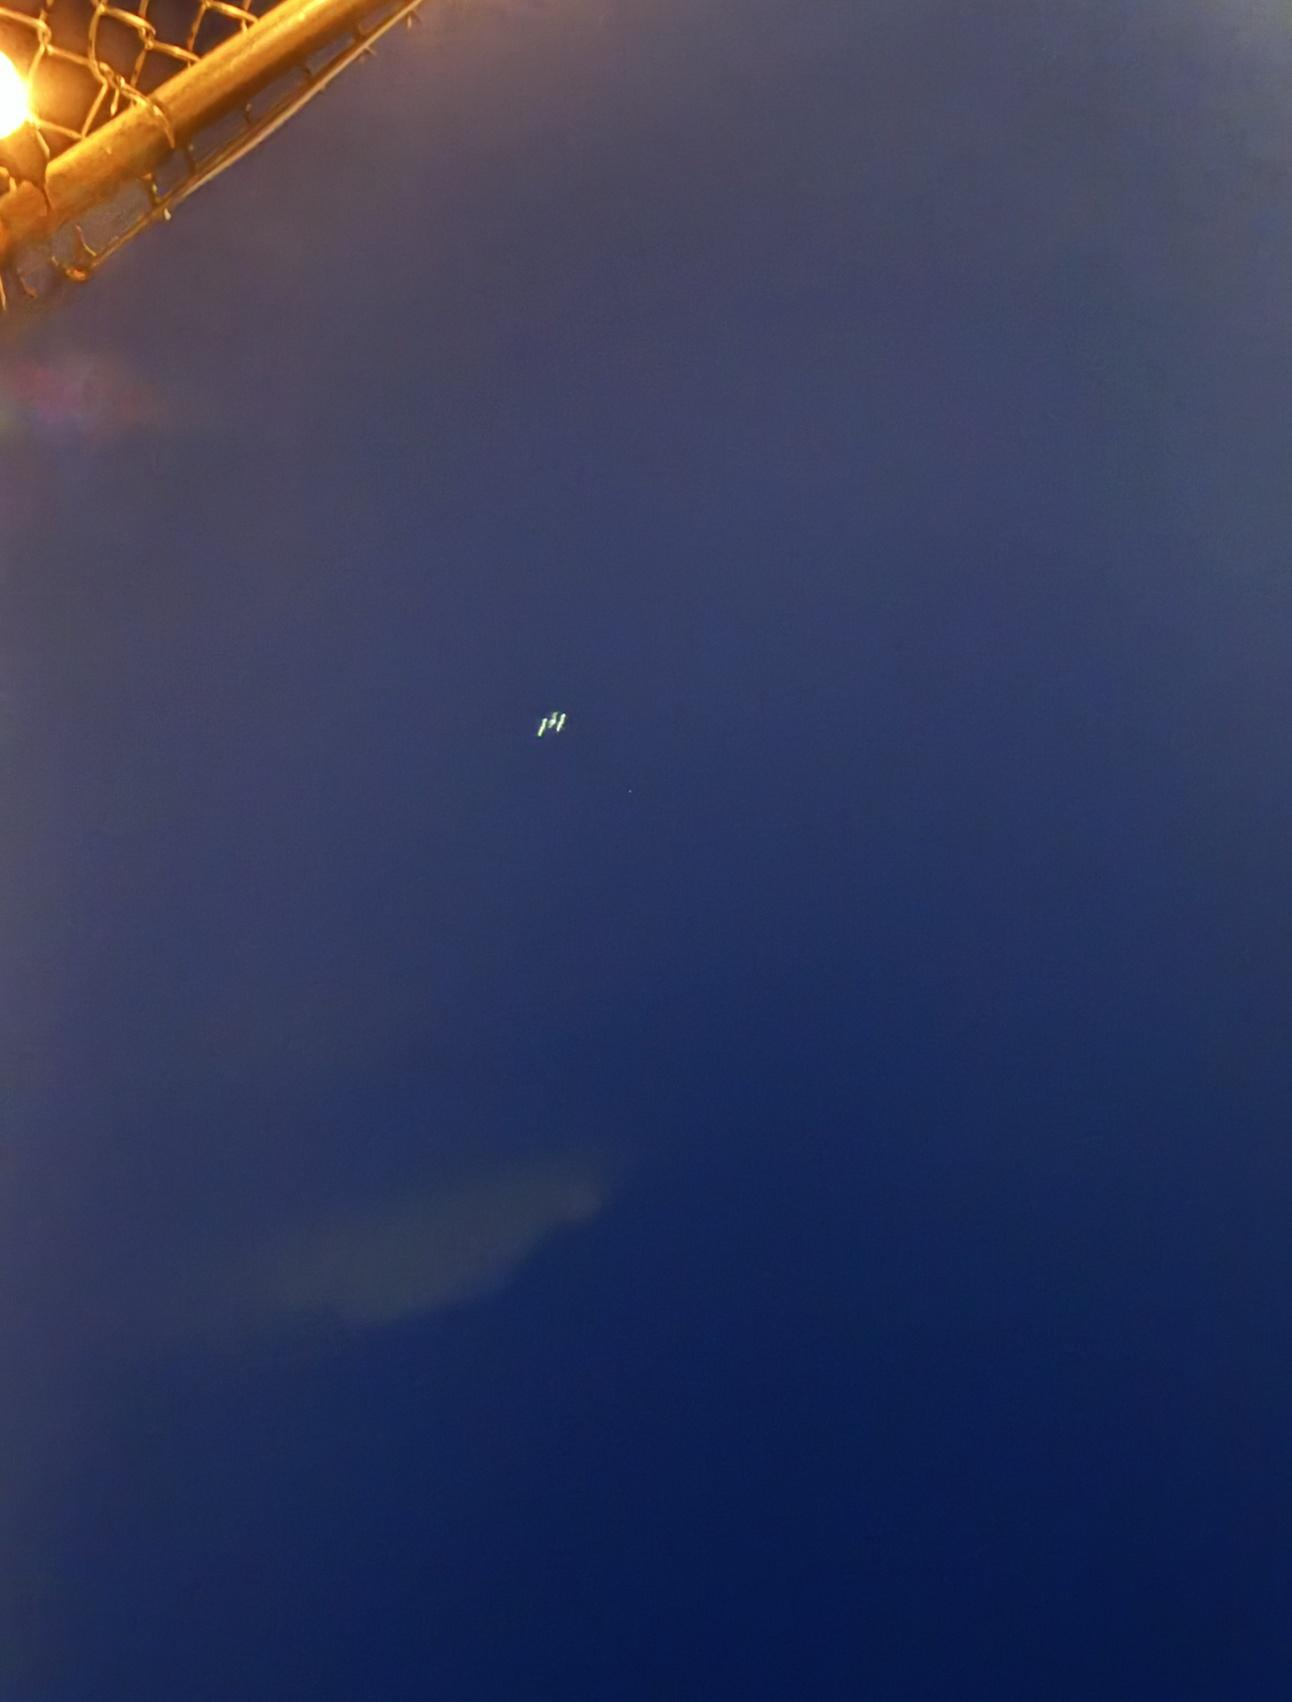Plane: (516, 695, 586, 751)
